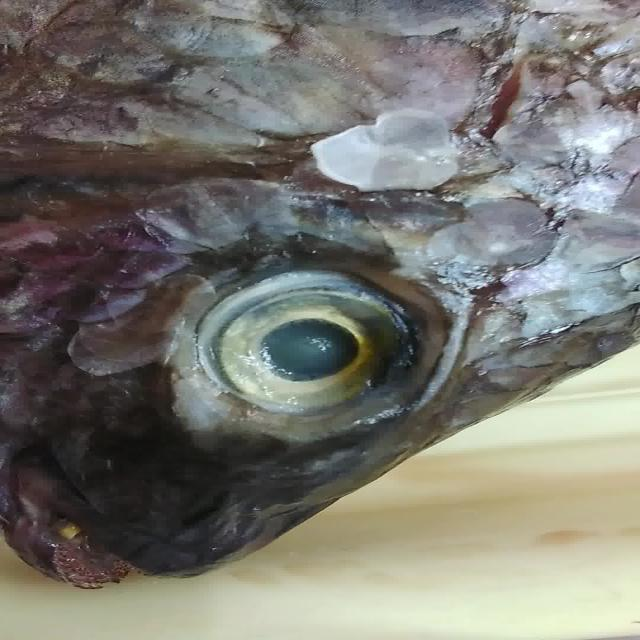Non-Fresh: (18, 5, 636, 251), (162, 239, 440, 457)
